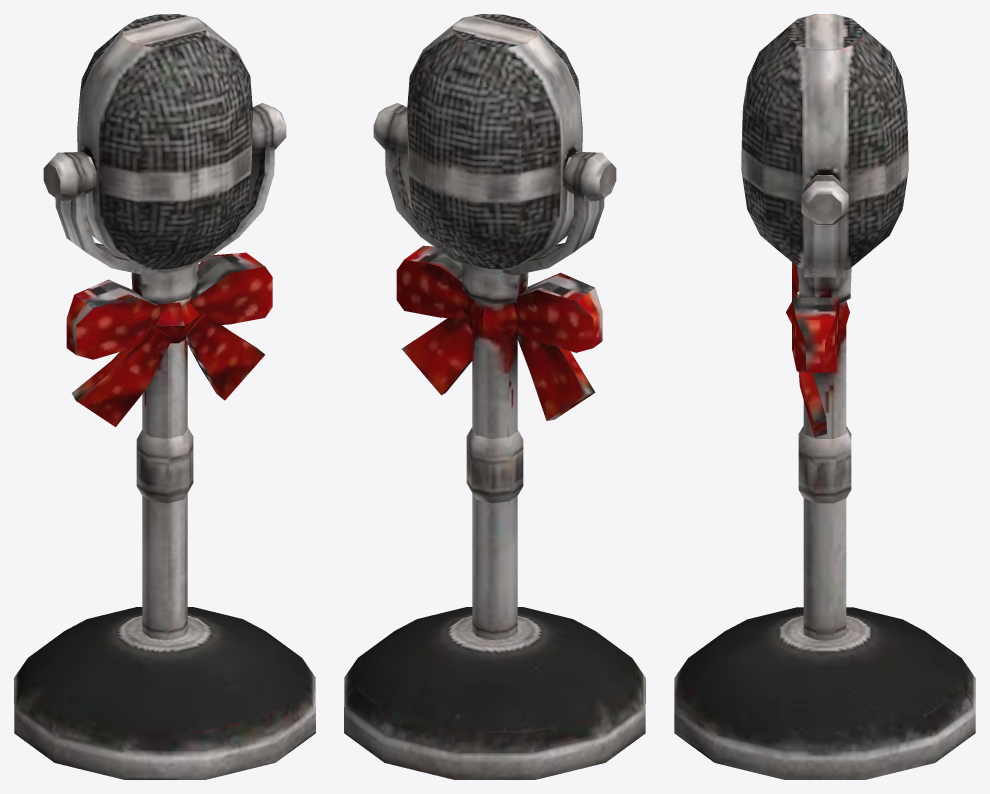
The model's file is microphone.glb.
The picture shows the model from 3 angles, left to right: view 1: azimuth 30°, elevation 25°; view 2: azimuth 150°, elevation 25°; view 3: azimuth 270°, elevation 25°; orthographic projection.
Visible parts, largest first — view 1: Vintage Stage Microphone (light); view 2: Vintage Stage Microphone (light); view 3: Vintage Stage Microphone (light).
Boxes of the visible parts, x1=… form: Vintage Stage Microphone (light): x1=14, y1=14, x2=315, y2=779; Vintage Stage Microphone (light): x1=344, y1=14, x2=645, y2=779; Vintage Stage Microphone (light): x1=674, y1=14, x2=975, y2=779.
Bounding box in the file's own units: 0.638 × 1.6 × 0.638.
Materials: 1 (1 with a texture image).
